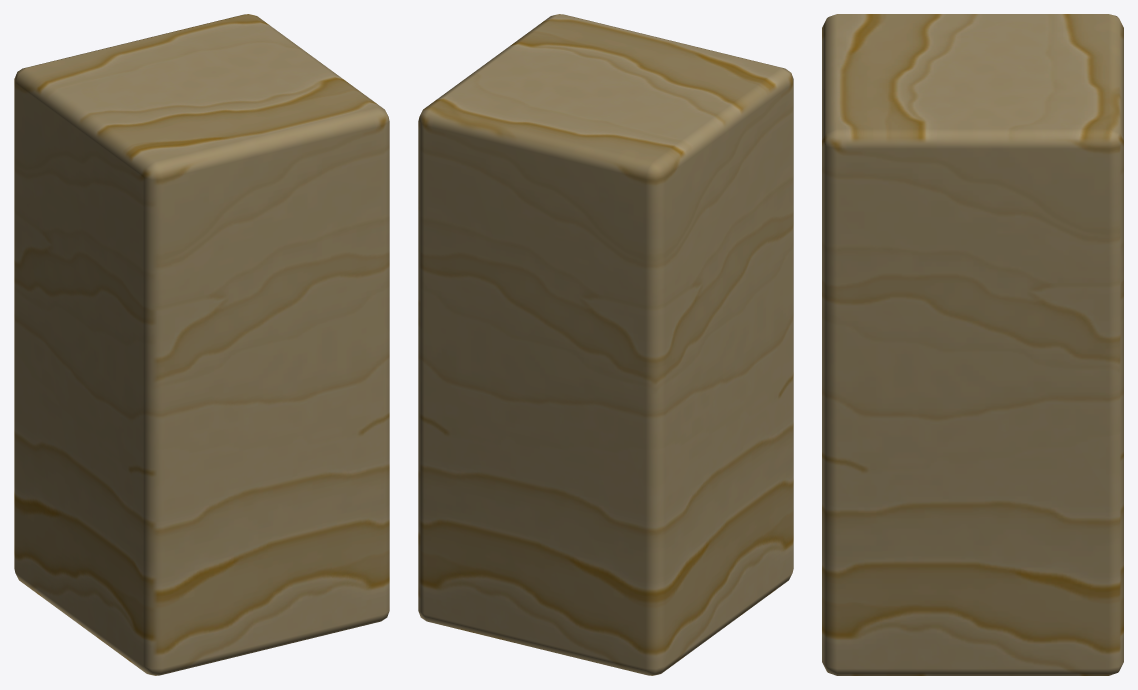
The model's file is SM_Platform_1m_01_D.glb.
The picture shows the model from 3 angles, left to right: view 1: azimuth 30°, elevation 25°; view 2: azimuth 150°, elevation 25°; view 3: azimuth 270°, elevation 25°; orthographic projection. The views are drawn at different scales.
Parts seen in each view (by area): view 1: SM_Platform_1m_01_D; view 2: SM_Platform_1m_01_D; view 3: SM_Platform_1m_01_D.
Boxes of the visible parts, x1,y1,x2,y2 form: SM_Platform_1m_01_D: (14, 14, 389, 675); SM_Platform_1m_01_D: (418, 14, 793, 675); SM_Platform_1m_01_D: (822, 14, 1123, 675).
Size of the model in its own units: 1 by 2 by 1.
Materials: 1 (1 with a texture image).
